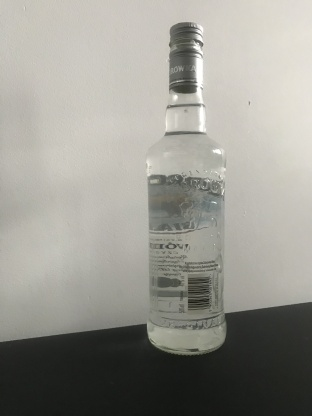nakretka: (167, 20, 205, 93)
